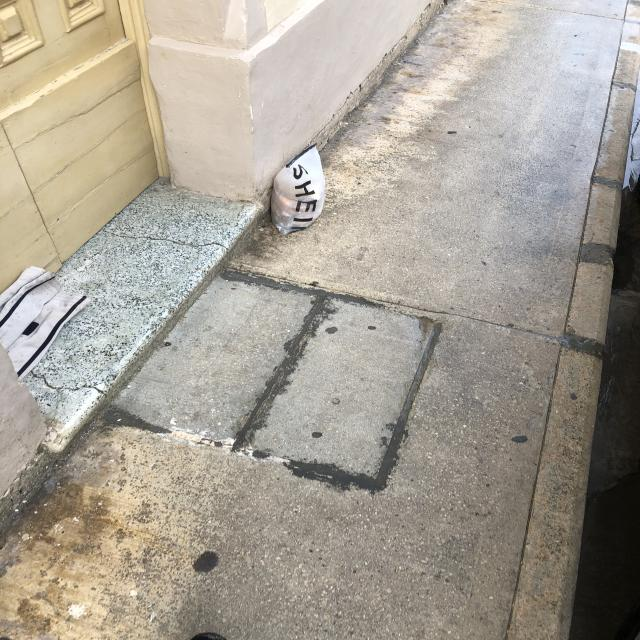Other: (1, 266, 92, 383), (270, 144, 333, 238)
